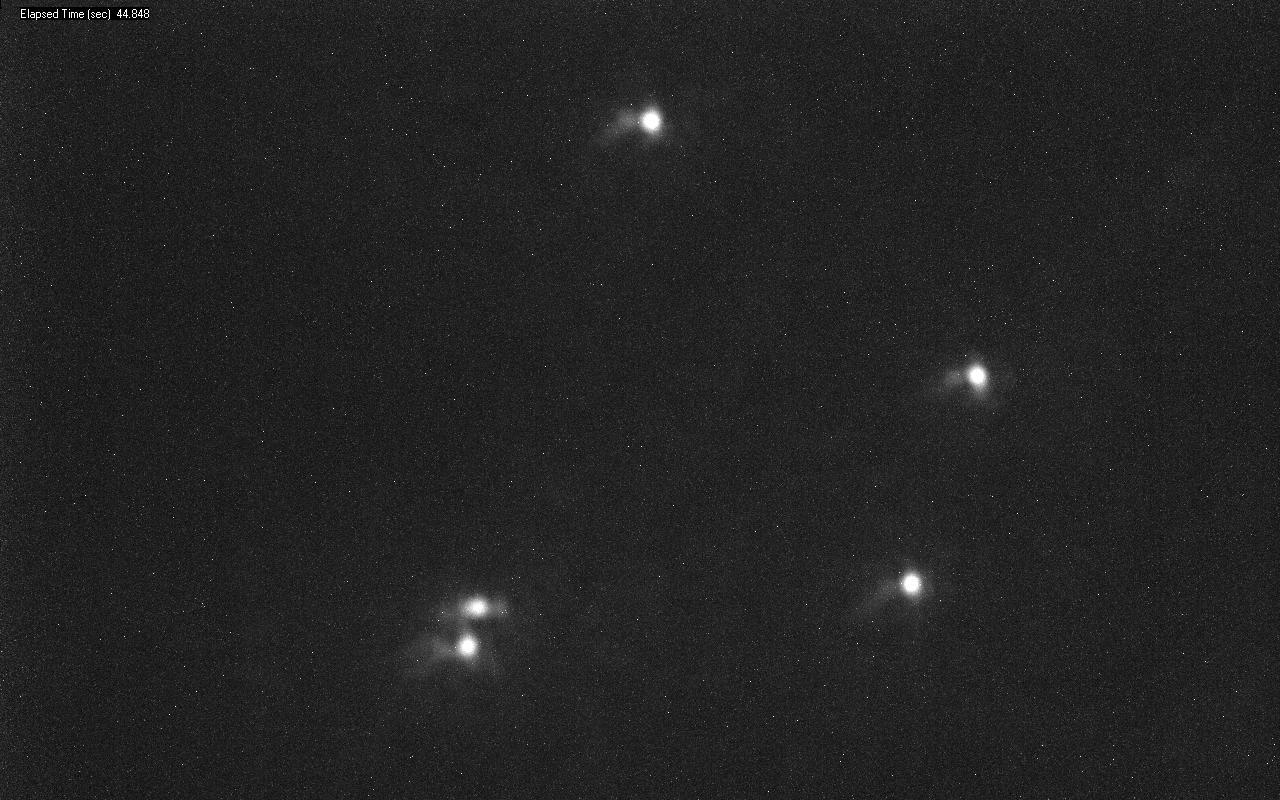Bead: (460, 596, 500, 621), (957, 363, 988, 392), (454, 625, 479, 659), (635, 110, 661, 133), (899, 570, 921, 597)
